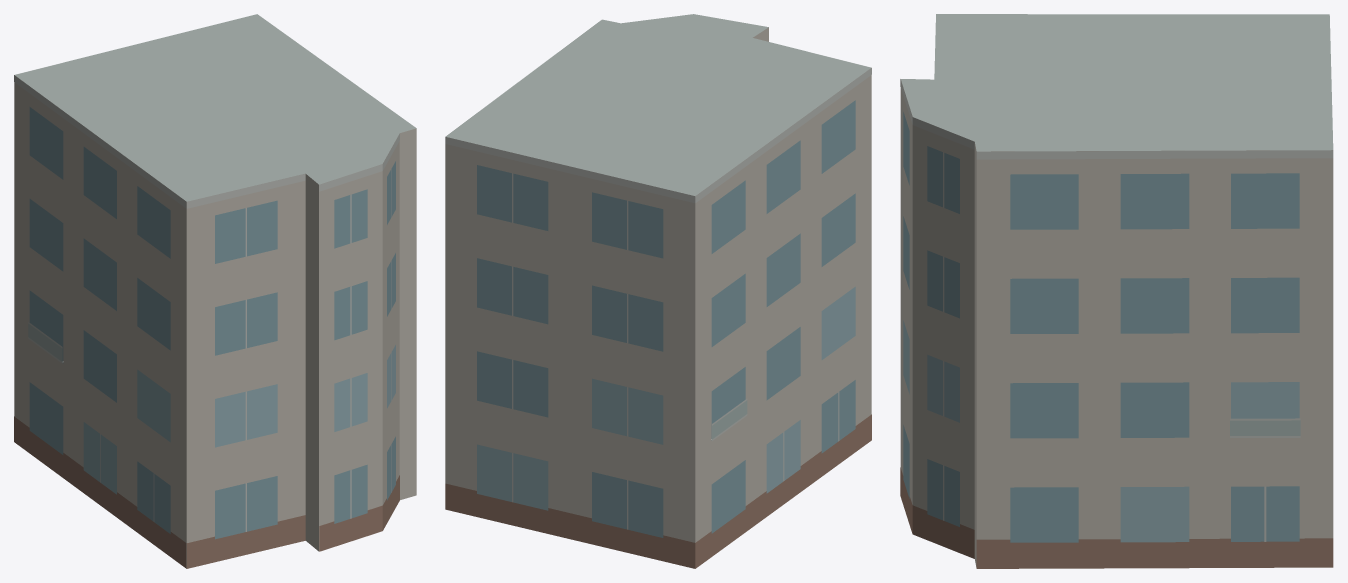
Rendered from survey-upis-32822963.glb.
The picture shows the model from 3 angles, left to right: view 1: azimuth 30°, elevation 25°; view 2: azimuth 150°, elevation 25°; view 3: azimuth 270°, elevation 25°; orthographic projection. The views are drawn at different scales.
Parts seen in each view (by area): view 1: survey-upis-32822963.tmp; view 2: survey-upis-32822963.tmp; view 3: survey-upis-32822963.tmp.
Part boxes in pixels (<box>): survey-upis-32822963.tmp: <box>14,14,416,568</box>; survey-upis-32822963.tmp: <box>445,14,871,568</box>; survey-upis-32822963.tmp: <box>900,14,1333,568</box>.
Bounding box in the file's own units: 8.94 × 12.61 × 11.86.
